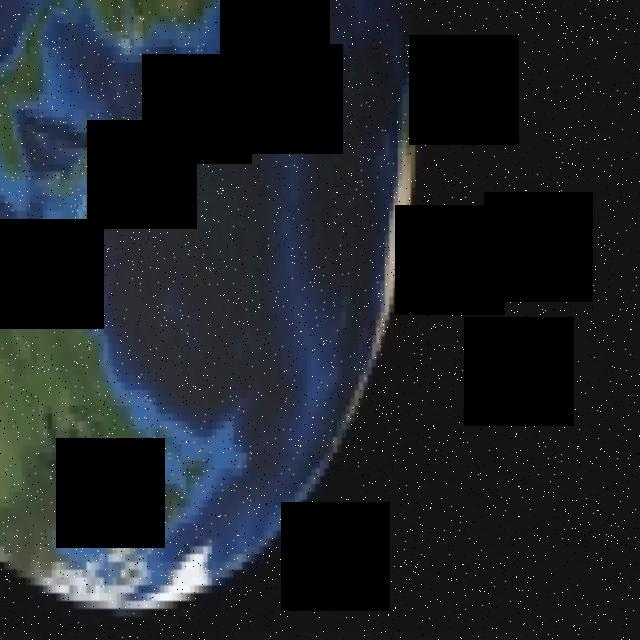Earth: (0, 0, 424, 625)
